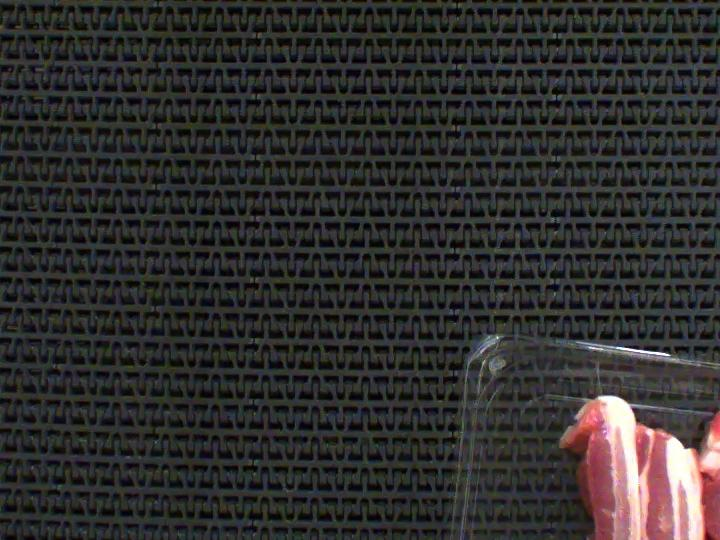packaging-error: (587, 353, 609, 400)
